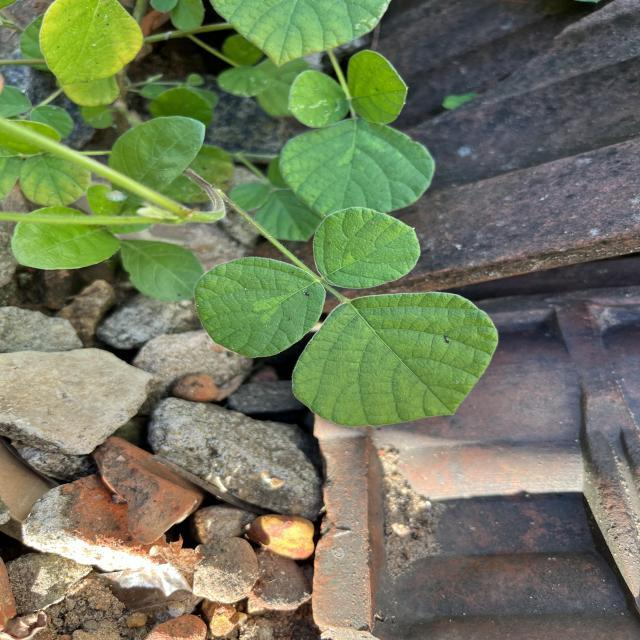Pseudarthria viscida: (188, 204, 504, 430)
